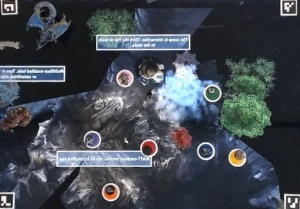blue: (196, 140, 218, 161)
green: (200, 84, 225, 104)
orange: (98, 180, 124, 202)
pink: (114, 66, 139, 89)
red: (139, 137, 157, 158)
violet: (82, 128, 103, 149)
yellow: (228, 146, 247, 167)
